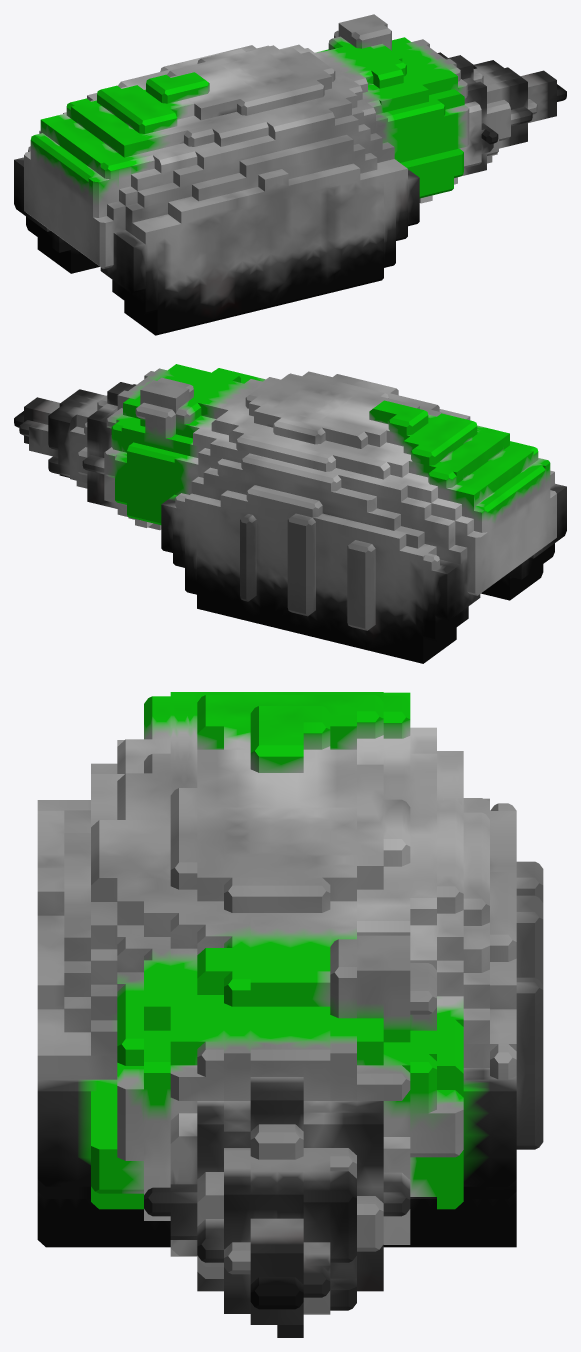
The model's file is subterranean-apc.glb.
3 views of the same model, one above another, from view 1: azimuth 30°, elevation 25°; view 2: azimuth 150°, elevation 25°; view 3: azimuth 270°, elevation 25° (orthographic). The views are drawn at different scales.
Visible parts, largest first — view 1: hull_dummy01; view 2: hull_dummy01; view 3: hull_dummy01.
Part boxes in pixels (x1=…): hull_dummy01: x1=14, y1=14, x2=566, y2=335; hull_dummy01: x1=14, y1=364, x2=566, y2=663; hull_dummy01: x1=37, y1=692, x2=543, y2=1337.
Size of the model in its own units: 1.35 by 0.4939 by 0.5924.
